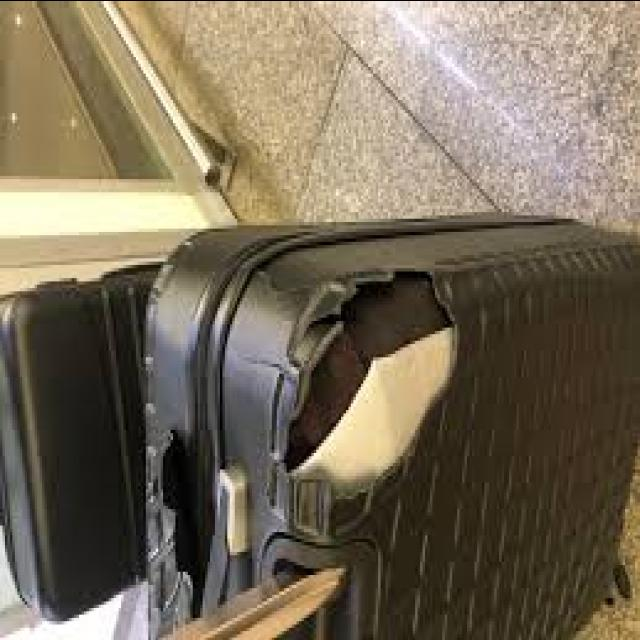Damage-bag: (254, 255, 456, 535), (161, 428, 216, 615)
